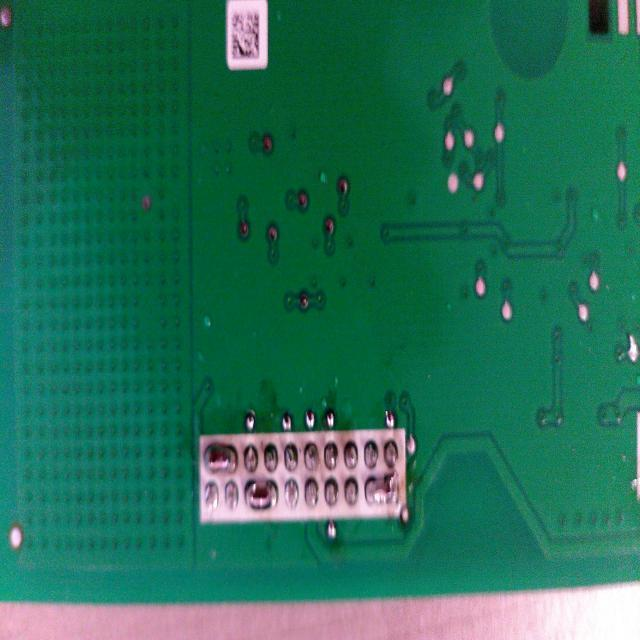Soldering shorted: (201, 442, 241, 477), (243, 479, 279, 516), (364, 473, 400, 508)
